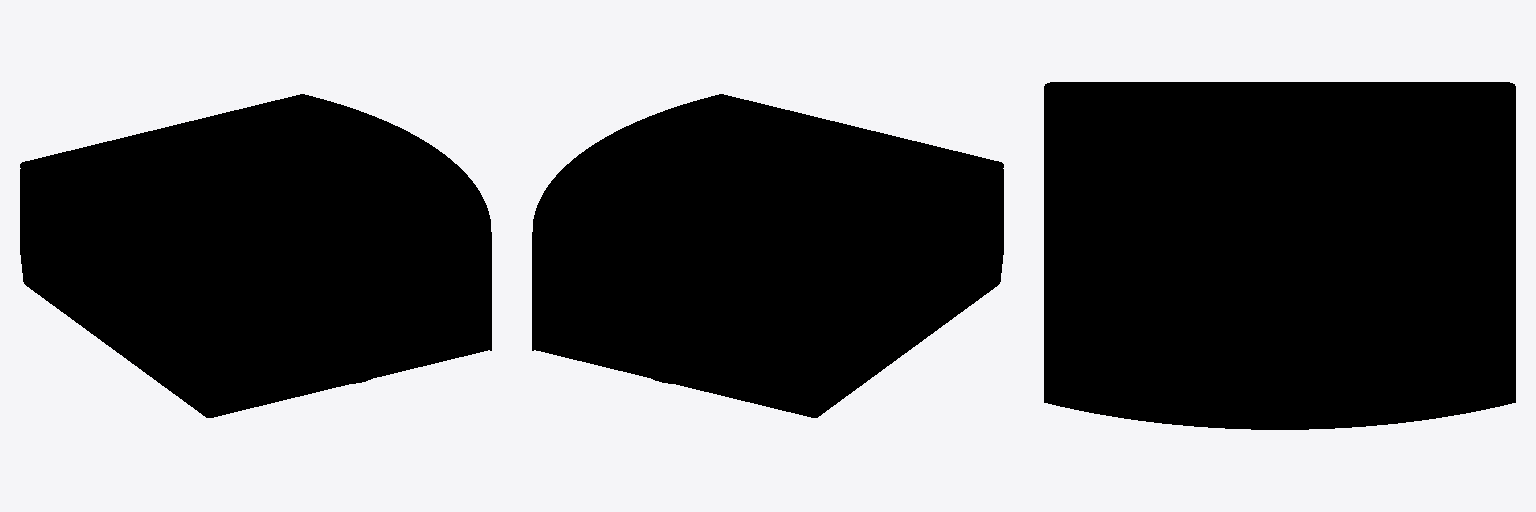
URDF robot description (blah):
<?xml version="1.0" ?>
<!-- =================================================================================== -->
<!-- |    This document was autogenerated by xacro from src/navbot/urdf/navbot_mkii.xacro | -->
<!-- |    EDITING THIS FILE BY HAND IS NOT RECOMMENDED                                 | -->
<!-- =================================================================================== -->
<robot name="blah" xmlns:xacro="http://www.ros.org/wiki/xacro">
  <link name="base_link">
    <visual>
      <origin rpy="0 0 1.5707963268" xyz="0 0 0.12065"/>
      <geometry>
        <mesh filename="package://mobile_base/urdf/meshes/mobile_base_mkii.stl" scale="1 1 1"/>
      </geometry>
      <material name="black">
        <color rgb="0 0 0"/>
      </material>
    </visual>
  </link>
  <link name="imu_link">
    <visual>
      <origin rpy="0 0 0" xyz="0 0 0"/>
      <geometry>
        <box size="0.0305 0.0203 0.0051"/>
      </geometry>
    </visual>
  </link>
  <joint name="base_link_to_imu_link" type="fixed">
    <origin rpy="0 0 0" xyz="-0.0238 0 -0.07065"/>
    <parent link="base_link"/>
    <child link="imu_link"/>
  </joint>
  <link name="neato_laser">
    <visual>
      <geometry>
        <cylinder length="0.018" radius="0.04"/>
      </geometry>
      <material name="black">
        <color rgba="0 0 0 1"/>
      </material>
    </visual>
  </link>
  <joint name="base_link_to_neato_laser" type="fixed">
    <origin rpy="0 0 0" xyz="0.102 0  0.2863"/>
    <parent link="base_link"/>
    <child link="neato_laser"/>
  </joint>
  <!--  <xacro:include filename="../../head_unit/urdf/head_unit_mkii.xacro" />
-->
</robot>

--- What the picture shows (computed from the rendered views, not written in the file) ---
The picture shows the robot from 3 angles, left to right: view 1: azimuth 30°, elevation 25°; view 2: azimuth 150°, elevation 25°; view 3: azimuth 270°, elevation 25°; orthographic projection.
Model blah with 3 links and 2 joints (2 fixed), rooted at base_link, posed all joints at 0.
Visible links, largest first — view 1: base_link, neato_laser; view 2: base_link, neato_laser; view 3: base_link, neato_laser.
Link boxes in pixels (x1,y1,x2,y2): base_link: (20,94,491,417); neato_laser: (310,143,358,173); base_link: (532,94,1003,417); neato_laser: (665,143,713,173); base_link: (1044,82,1515,429); neato_laser: (1249,172,1310,210).
Size in the robot's own frame: 0.6127 by 0.6096 by 0.3685 metres.
Meshes: 1 distinct files referenced, 1 mesh visuals loaded (1 binary STL).
